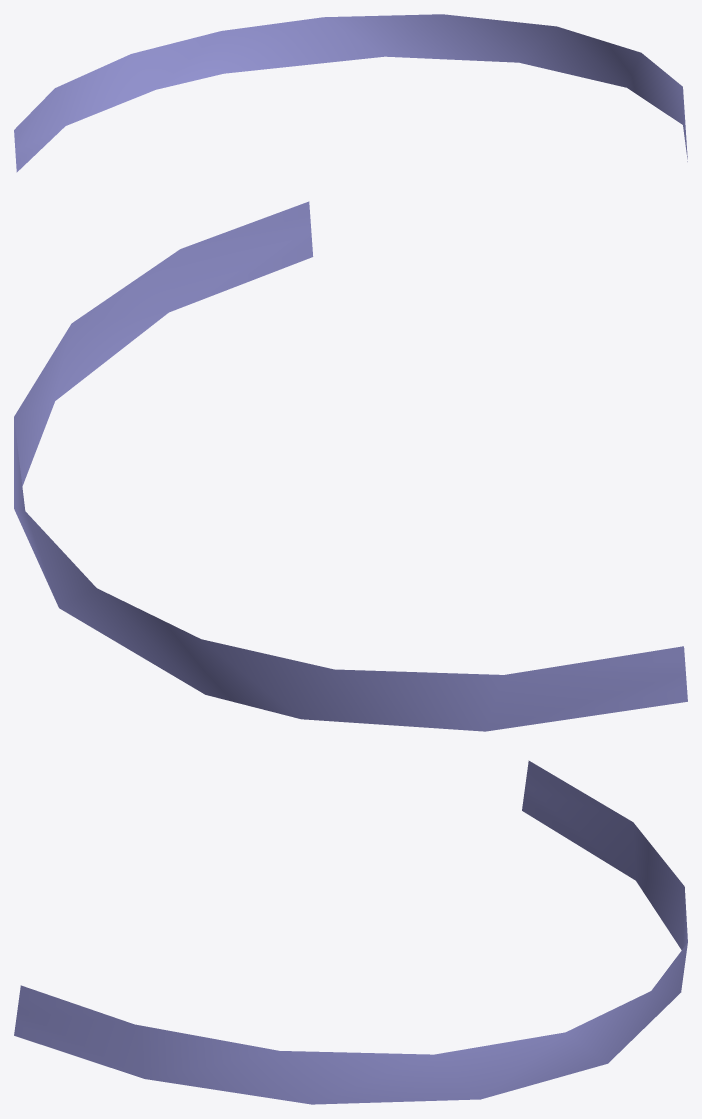
File: original-171.obj
The picture shows the model from 3 angles, top to bottom: view 1: azimuth 30°, elevation 25°; view 2: azimuth 150°, elevation 25°; view 3: azimuth 270°, elevation 25°; orthographic projection. The views are drawn at different scales.
Visible parts, largest first — view 1: Group130/mesh165/mesh165-geometry#mesh165-geometry; view 2: Group130/mesh165/mesh165-geometry#mesh165-geometry; view 3: Group130/mesh165/mesh165-geometry#mesh165-geometry.
Boxes of the visible parts, x1=… form: Group130/mesh165/mesh165-geometry#mesh165-geometry: x1=14, y1=14, x2=687, y2=172; Group130/mesh165/mesh165-geometry#mesh165-geometry: x1=14, y1=201, x2=687, y2=731; Group130/mesh165/mesh165-geometry#mesh165-geometry: x1=14, y1=760, x2=687, y2=1104.
Size of the model in its own units: 0.1077 by 0.0197 by 0.0964.
